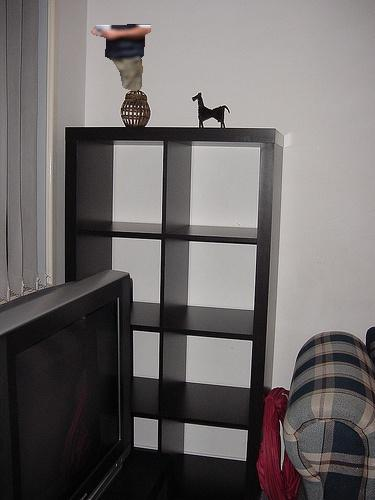tampered: (92, 25, 151, 91)
